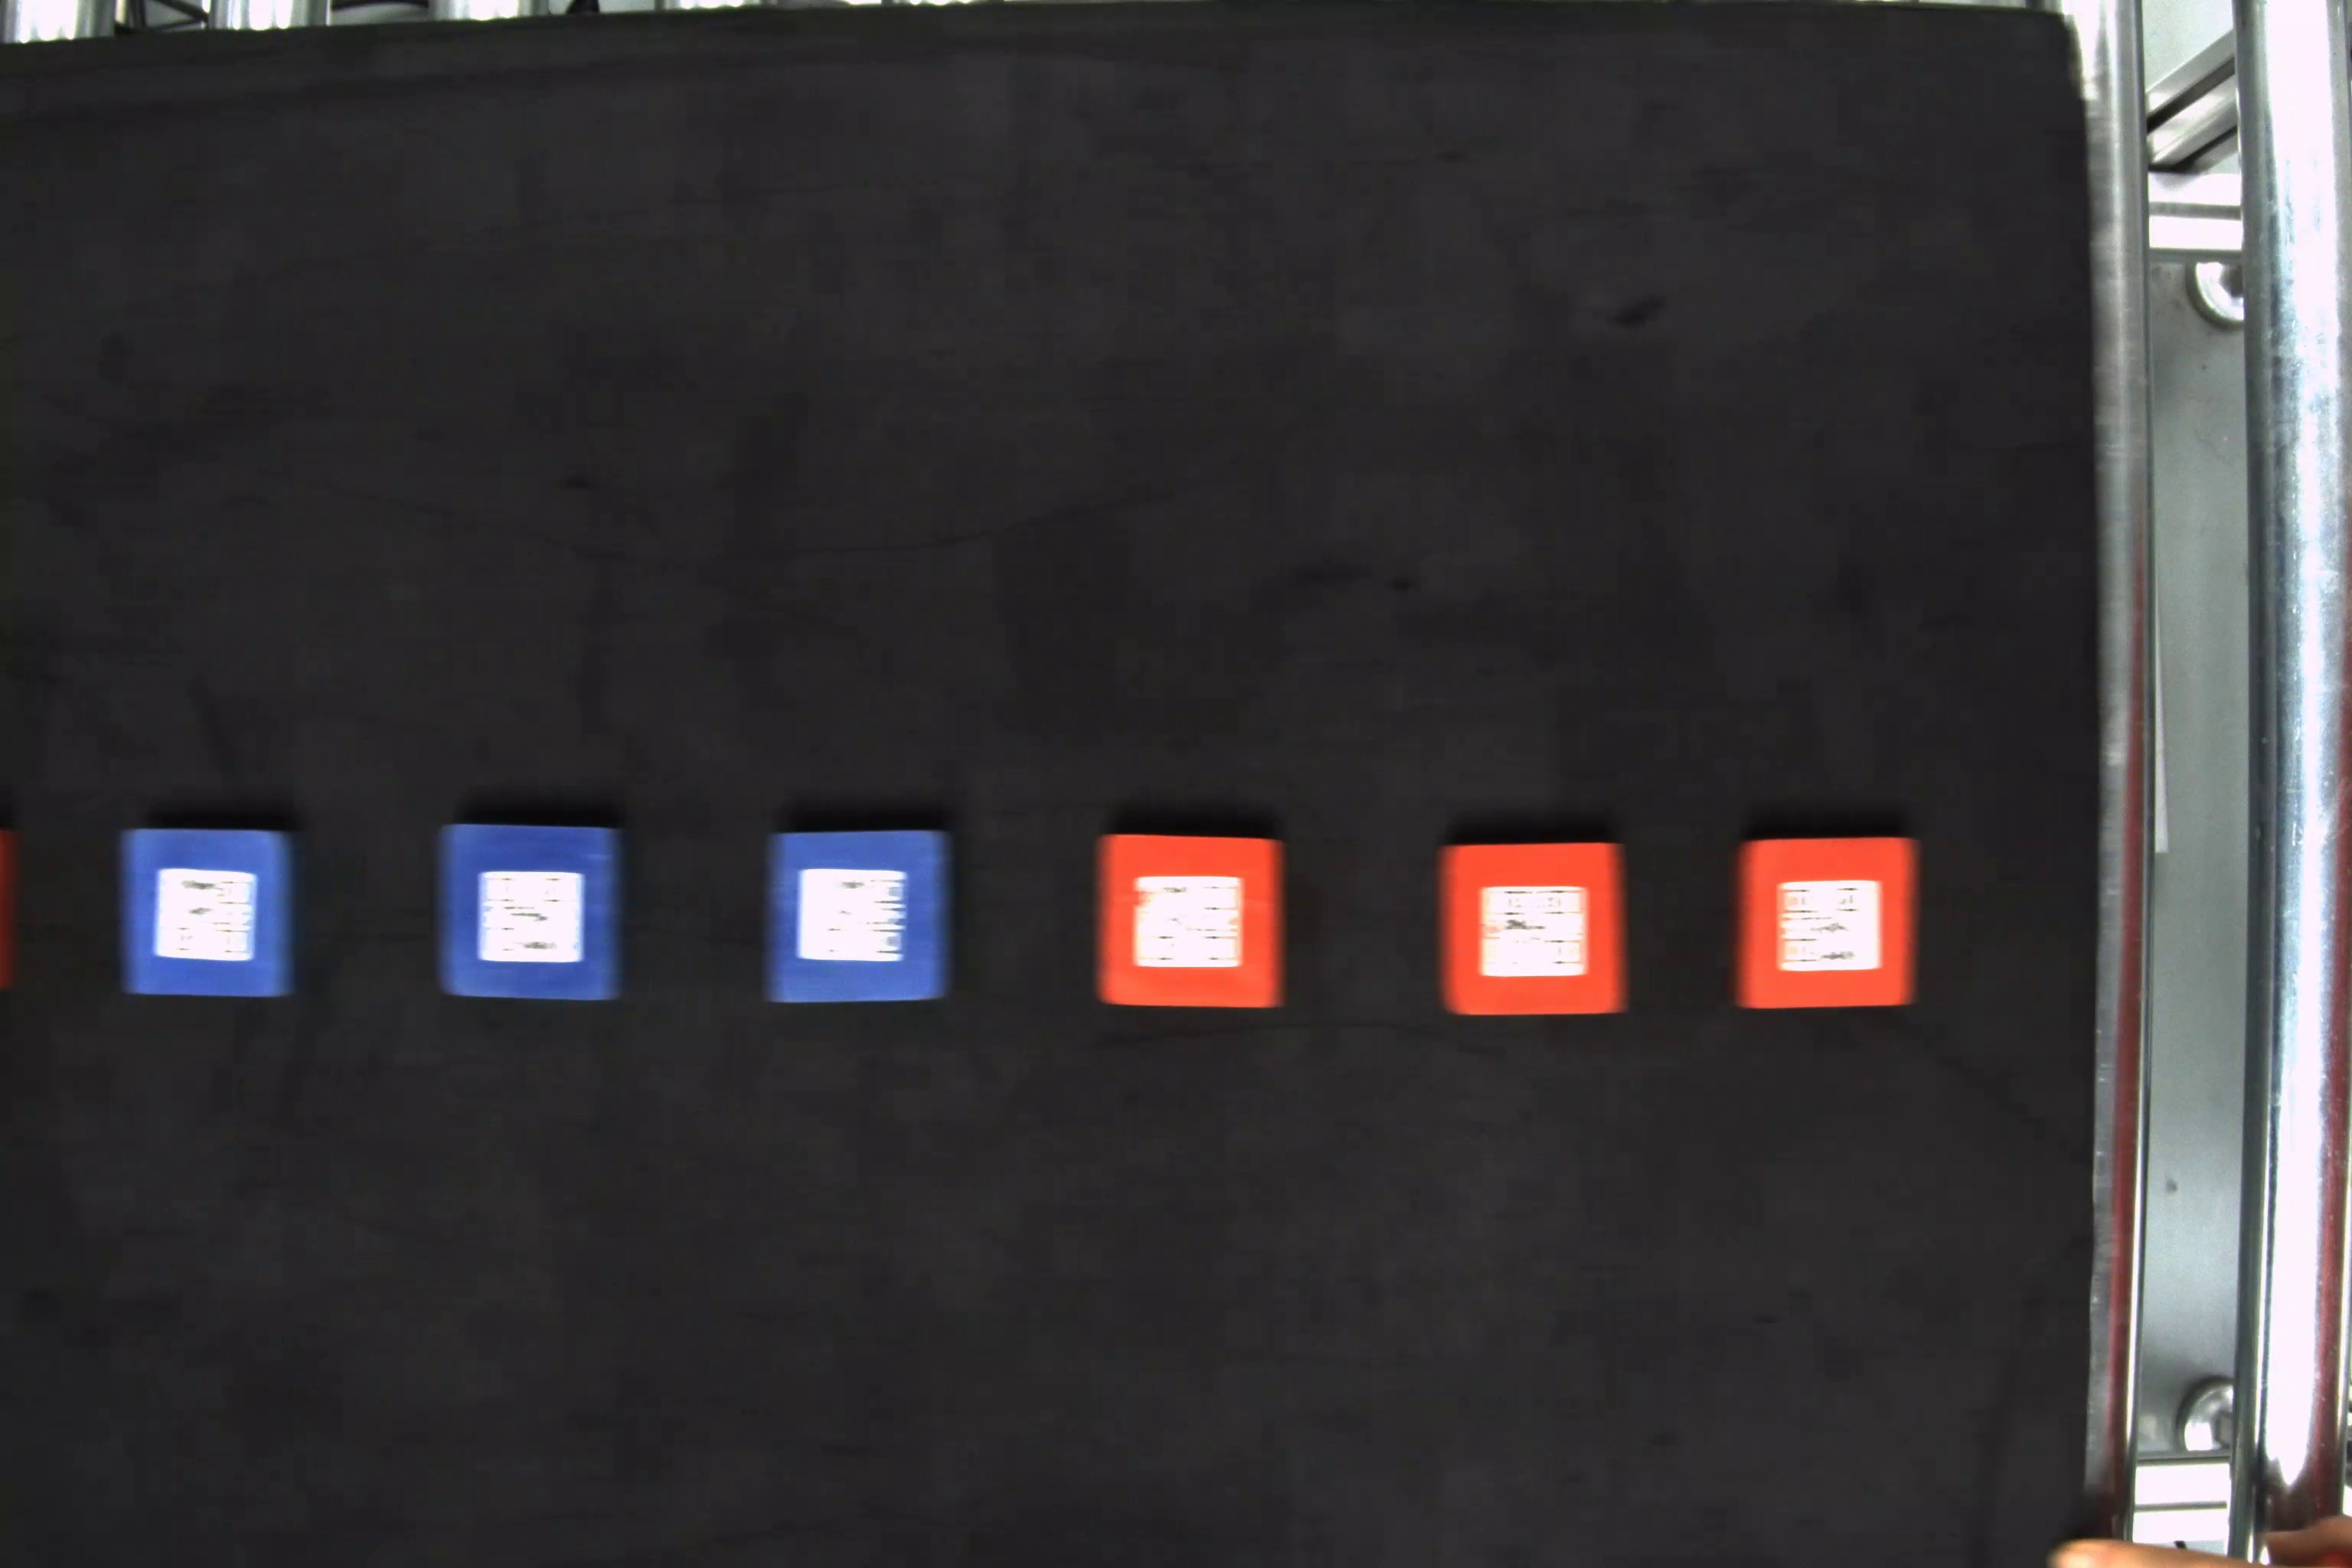wood: (1428, 833, 1634, 1020), (759, 822, 961, 1011), (430, 819, 626, 1006), (1090, 843, 1297, 1011), (1732, 831, 1920, 1011), (115, 819, 296, 1001)
